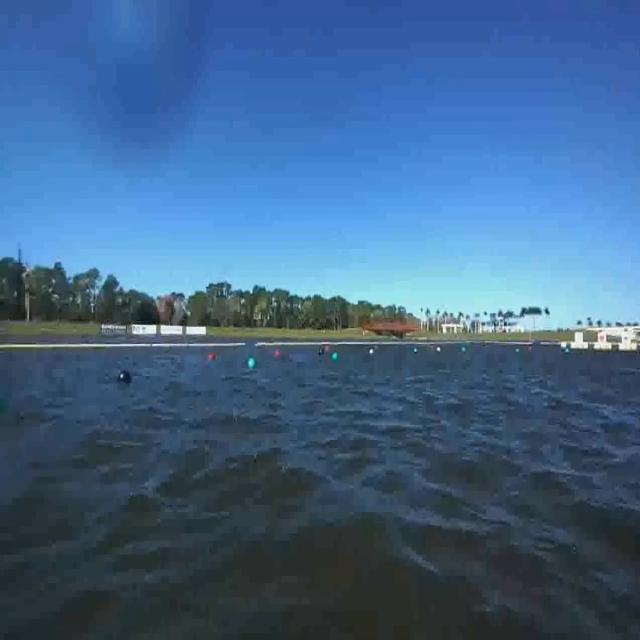black-buoy: (117, 370, 132, 386)
green-buoy: (245, 352, 259, 374)
red-buoy: (204, 350, 218, 363)
